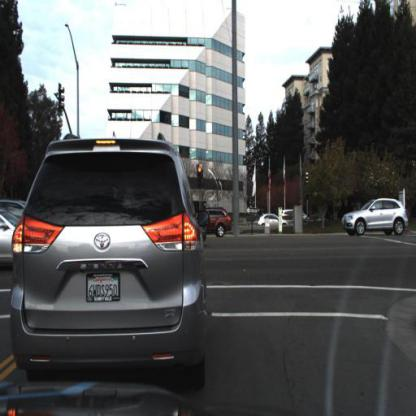car: (10, 131, 212, 380), (339, 187, 413, 244), (341, 198, 411, 240), (197, 209, 235, 241), (260, 214, 289, 229)
trafficLight-Red: (196, 161, 205, 190)
